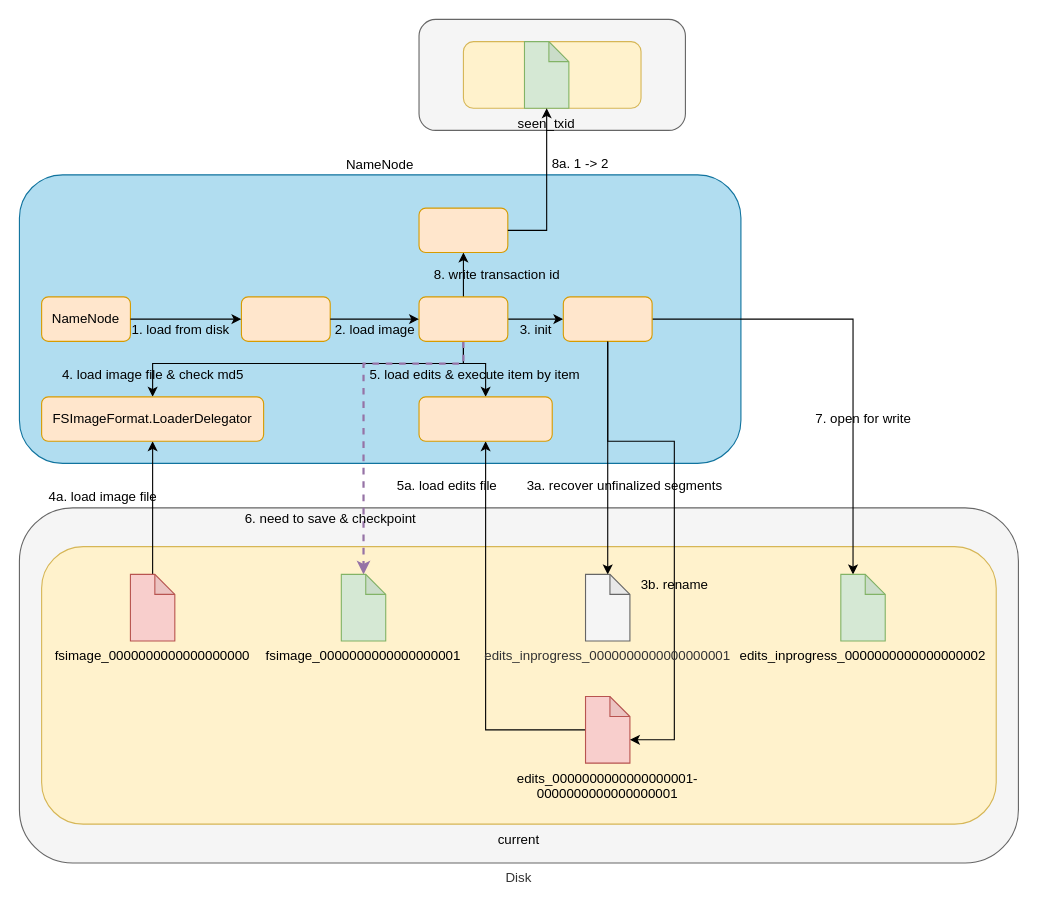
Image size: 1038x906. Some labels were removed from this diagram. The shapes that lost their labels are listed below. From the top down, each one's box as (x1, y1, x2, y2) in pixels, then its label:
(418, 207, 508, 253): NNStorage
(240, 296, 330, 341): FSNamesystem
(418, 296, 508, 341): FSImage
(562, 296, 652, 341): FSEditLog
(418, 396, 552, 441): FSEditLogLoader
